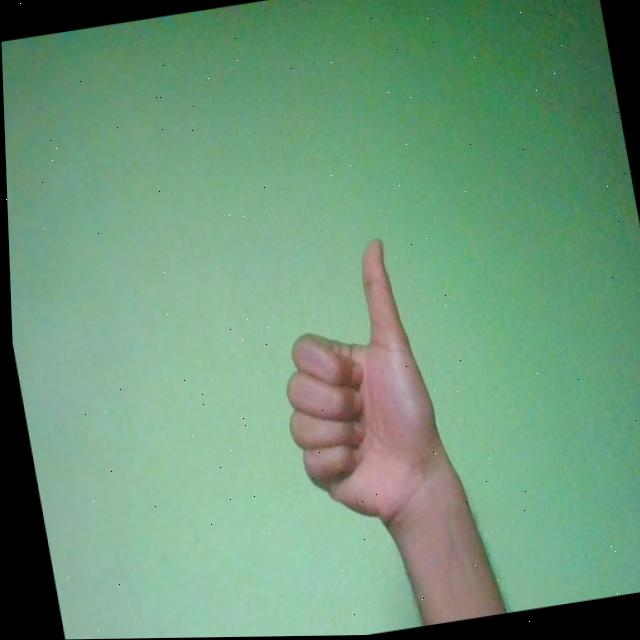Good Job: (255, 234, 451, 543)
